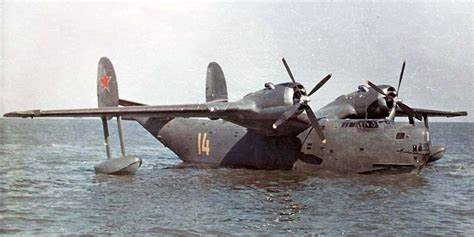Aeronef_militaire: (1, 47, 470, 199)
